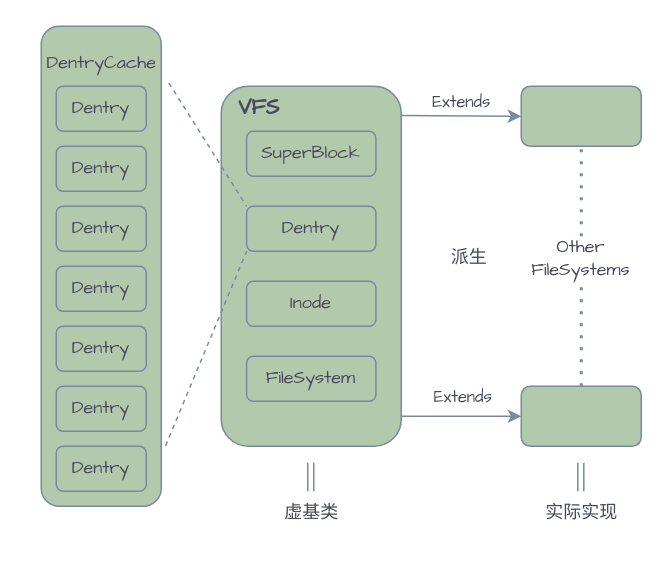
This 668x563 diagram has some shape labels left out. The box of each missing label's shape, as (x1, y1, x2, y2) in pixels:
EXT4: (520, 85, 641, 146)
FAT32: (520, 385, 641, 446)
